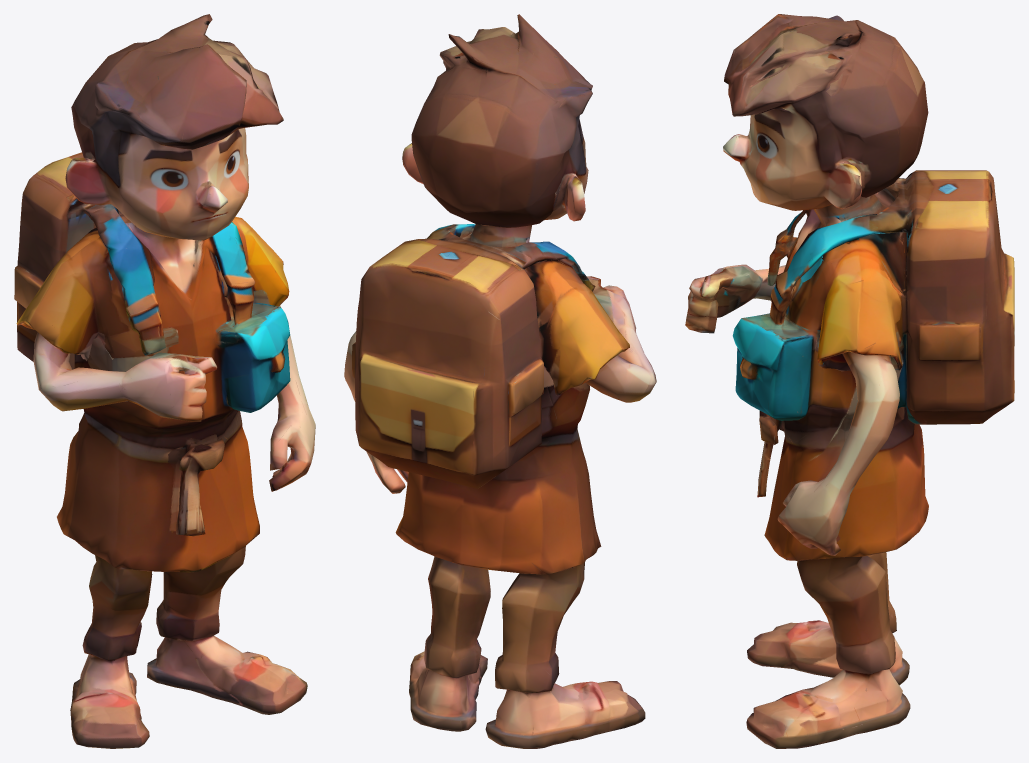
Rendered from Meshy_AI_Low_poly_simple_villa_0309135059_texture.fbx.
3 views of the same model, side by side, from view 1: azimuth 30°, elevation 25°; view 2: azimuth 150°, elevation 25°; view 3: azimuth 270°, elevation 25° (orthographic). The views are drawn at different scales.
Parts seen in each view (by area): view 1: Mesh_0; view 2: Mesh_0; view 3: Mesh_0.
Boxes of the visible parts, x1,y1,x2,y2 form: Mesh_0: (14, 14, 315, 748); Mesh_0: (344, 14, 656, 748); Mesh_0: (685, 14, 1014, 748).
Size of the model in its own units: 88.46 by 201 by 87.28.
Materials: 1 (1 with a texture image).
